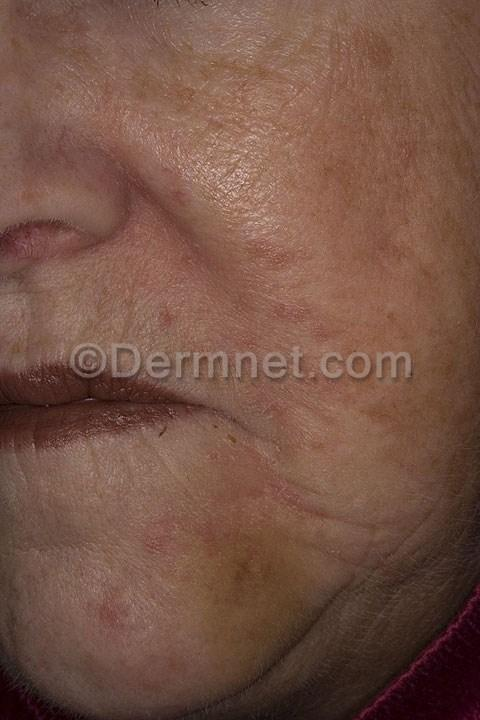Dry-Skin: (233, 476, 477, 720), (0, 446, 217, 542)
